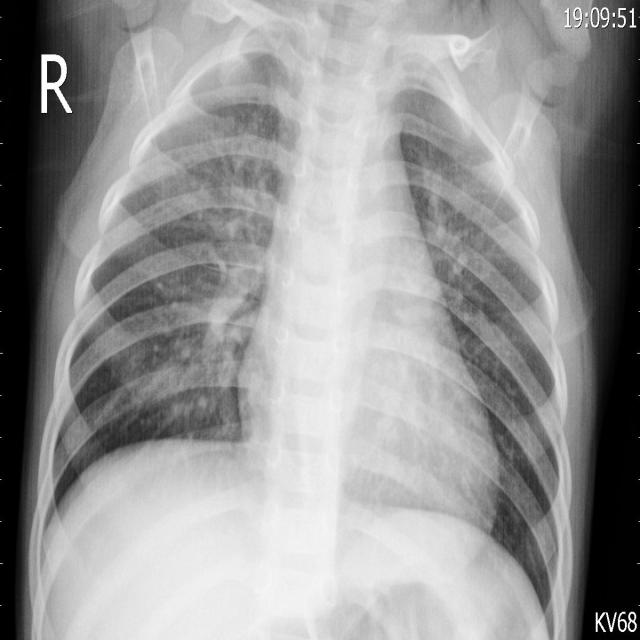high-pneumonia: (426, 147, 520, 327), (217, 18, 314, 135)
low-pneumonia: (141, 180, 252, 438)
